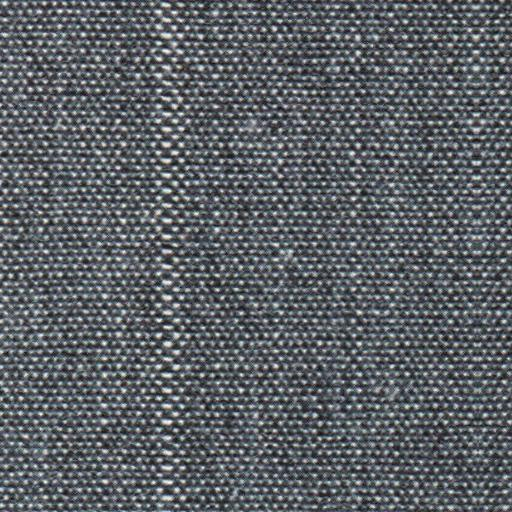slub: (148, 2, 195, 508)
